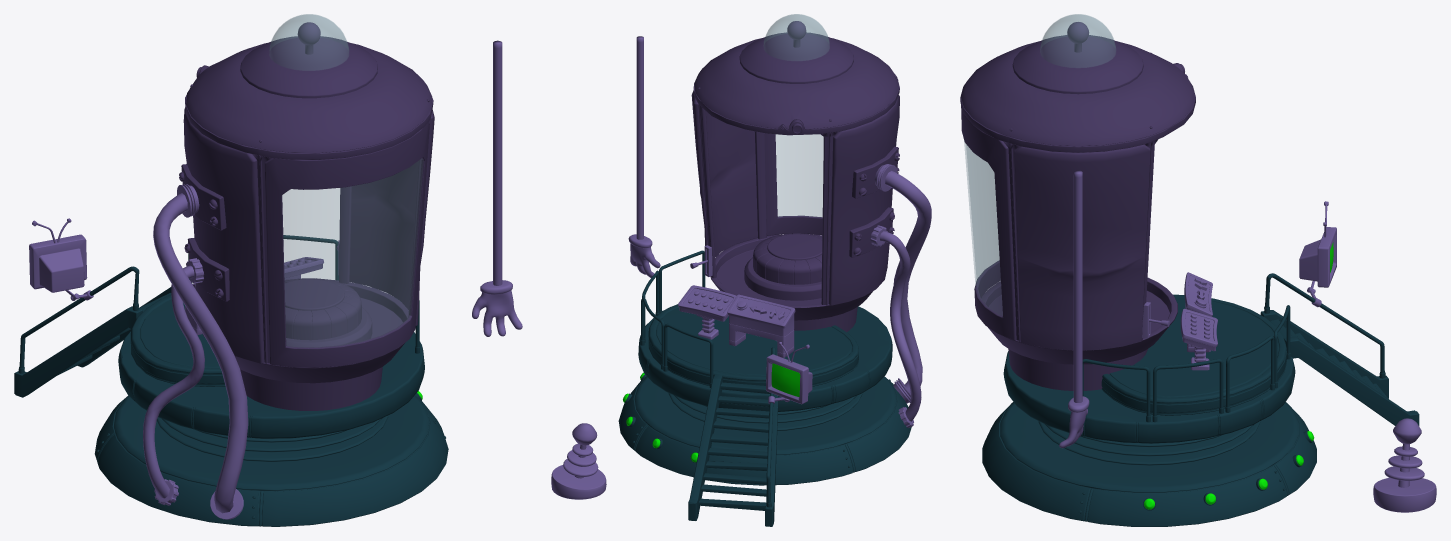
Rendered from BAS_v2.fbx.
The picture shows the model from 3 angles, left to right: view 1: azimuth 30°, elevation 25°; view 2: azimuth 150°, elevation 25°; view 3: azimuth 270°, elevation 25°; orthographic projection. The views are drawn at different scales.
Visible parts, largest first — view 1: BAS_platform_base, BAS_rear_panel_glass, BAS_chasis_ceiling, BAS_rear_panel, BAS_panel, BAS_platform_top, BAS_dented_panel, BAS_dome, BAS_thick_cable, BAS_frame, BAS_platform_floor, BAS_platform_middle (+13 smaller); view 2: BAS_platform_base, BAS_chasis_ceiling, BAS_platform_floor, BAS_panel, BAS_stairs, BAS_dented_panel, BAS_platform_top, BAS_frame, BAS_dome, BAS_rear_panel_glass, BAS_podium, BAS_chasis_floor (+19 smaller); view 3: BAS_dented_panel, BAS_platform_base, BAS_chasis_ceiling, BAS_platform_floor, BAS_platform_top, BAS_dome, BAS_rear_panel, BAS_stairs, BAS_platform_middle, BAS_rear_panel_glass, BAS_chasis_floor, BAS_frame (+13 smaller).
Part boxes in pixels (bbox=[...]): BAS_platform_base: bbox=[94, 393, 448, 526]; BAS_rear_panel_glass: bbox=[282, 159, 423, 347]; BAS_chasis_ceiling: bbox=[186, 43, 432, 153]; BAS_rear_panel: bbox=[264, 122, 429, 367]; BAS_panel: bbox=[183, 107, 264, 363]; BAS_platform_top: bbox=[118, 331, 424, 438]; BAS_dented_panel: bbox=[349, 109, 434, 325]; BAS_dome: bbox=[240, 36, 377, 98]; BAS_thick_cable: bbox=[153, 193, 248, 513]; BAS_frame: bbox=[185, 65, 433, 363]; BAS_platform_floor: bbox=[130, 295, 225, 386]; BAS_platform_middle: bbox=[156, 415, 388, 461]; BAS_platform_base: bbox=[618, 374, 911, 485]; BAS_chasis_ceiling: bbox=[694, 38, 898, 129]; BAS_platform_floor: bbox=[648, 305, 858, 386]; BAS_panel: bbox=[829, 95, 899, 305]; BAS_stairs: bbox=[688, 374, 778, 526]; BAS_dented_panel: bbox=[691, 90, 757, 257]; BAS_platform_top: bbox=[638, 304, 892, 411]; BAS_frame: bbox=[693, 73, 899, 305]; BAS_dome: bbox=[739, 32, 853, 83]; BAS_rear_panel_glass: bbox=[776, 134, 823, 217]; BAS_podium: bbox=[753, 233, 822, 284]; BAS_chasis_floor: bbox=[710, 234, 872, 320]; BAS_dented_panel: bbox=[1014, 144, 1150, 350]; BAS_platform_base: bbox=[982, 402, 1316, 526]; BAS_chasis_ceiling: bbox=[961, 41, 1195, 146]; BAS_platform_floor: bbox=[1101, 294, 1286, 415]; BAS_platform_top: bbox=[1003, 351, 1295, 443]; BAS_dome: bbox=[1012, 35, 1143, 94]; BAS_rear_panel: bbox=[961, 105, 1016, 340]; BAS_stairs: bbox=[1260, 310, 1419, 425]; BAS_platform_middle: bbox=[1038, 421, 1260, 465]; BAS_rear_panel_glass: bbox=[964, 141, 1002, 315]; BAS_chasis_floor: bbox=[981, 277, 1177, 364]; BAS_frame: bbox=[960, 63, 1195, 341].
Bounding box in the file's own units: 2202 × 2702 × 2648.
